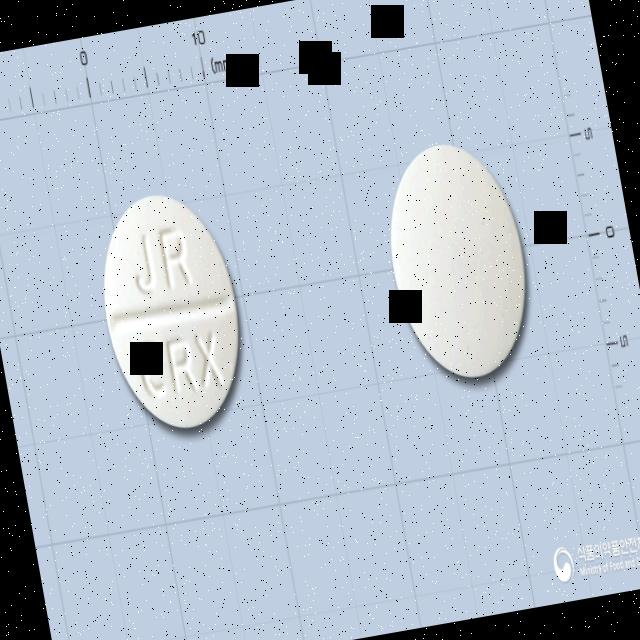Ciroxin - 250mg: (82, 180, 261, 450)
